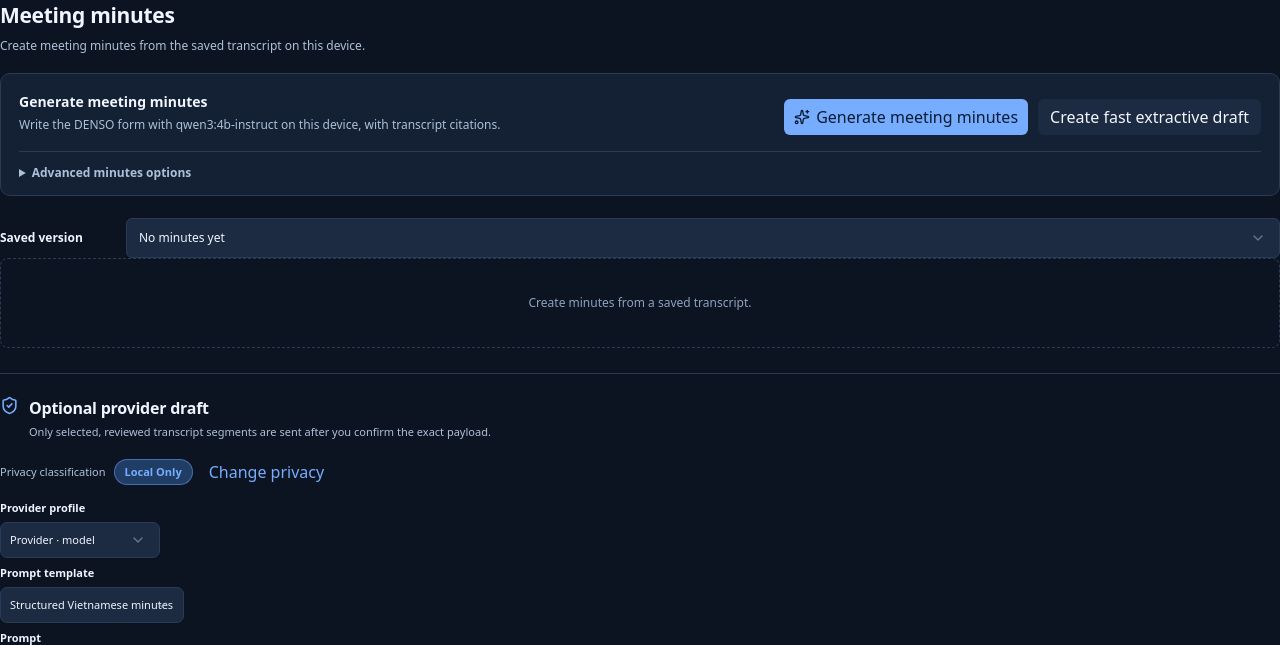
Test: creates a source-linked extractive draft when local AI is available
Click the button "Create fast extractive draft" at x=1150, y=117, box top-left (1038, 99), bottom-right (1261, 135)
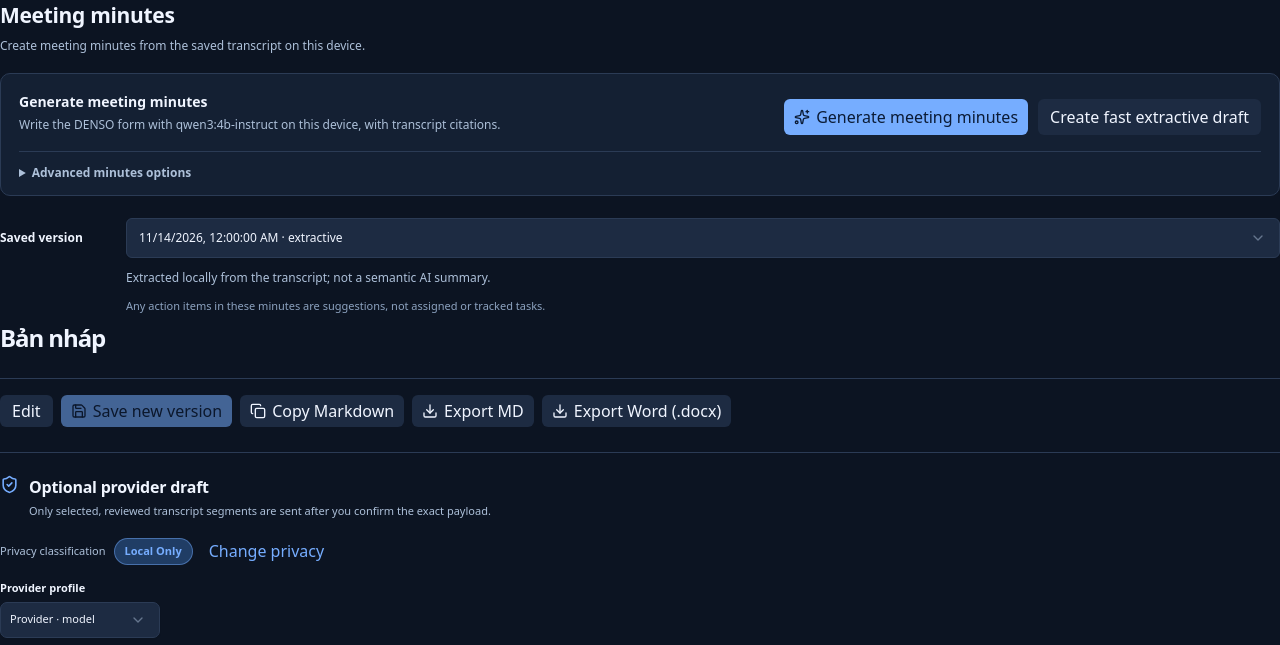
Now the text "Extracted locally from the transcript; not a semantic AI summary." is shown, box top-left (126, 269), bottom-right (490, 287)
